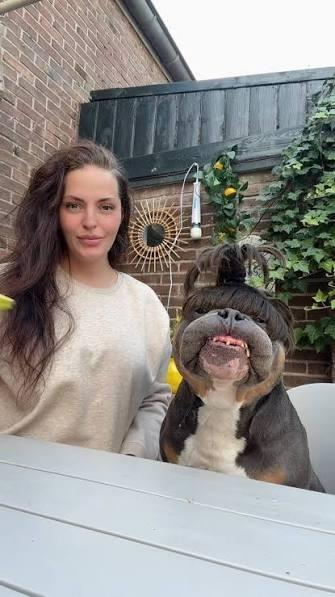adult_dog: (159, 243, 325, 495)
non-dog: (0, 138, 174, 461)
